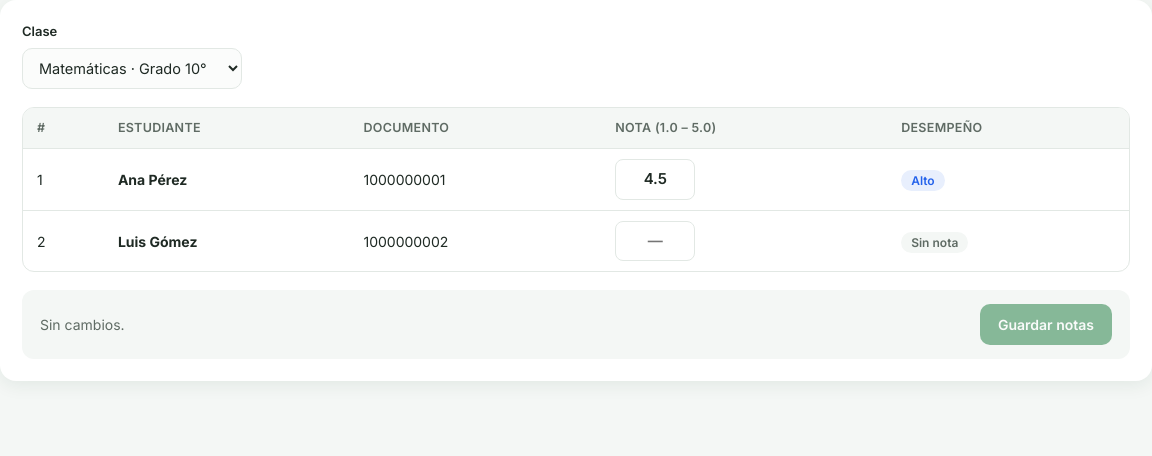
Docente: Registrar notas › envía solo las notas que cambiaron (acepta coma decimal)
This screenshot has width=1152, height=456.
Type "3,8" into the field named "Nota de Luis Gómez" at (655, 241), box x1=615 y1=221 x2=695 y2=261
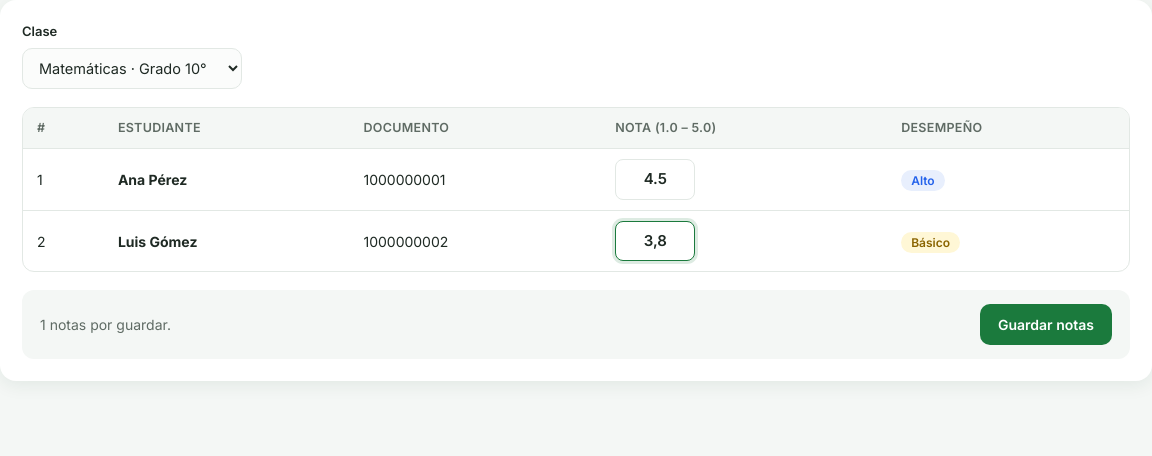
Result: the text "1 notas por guardar." is shown at x1=40 y1=314 x2=171 y2=335
Click the button "Guardar notas" at (1046, 325), box x1=980 y1=304 x2=1112 y2=345
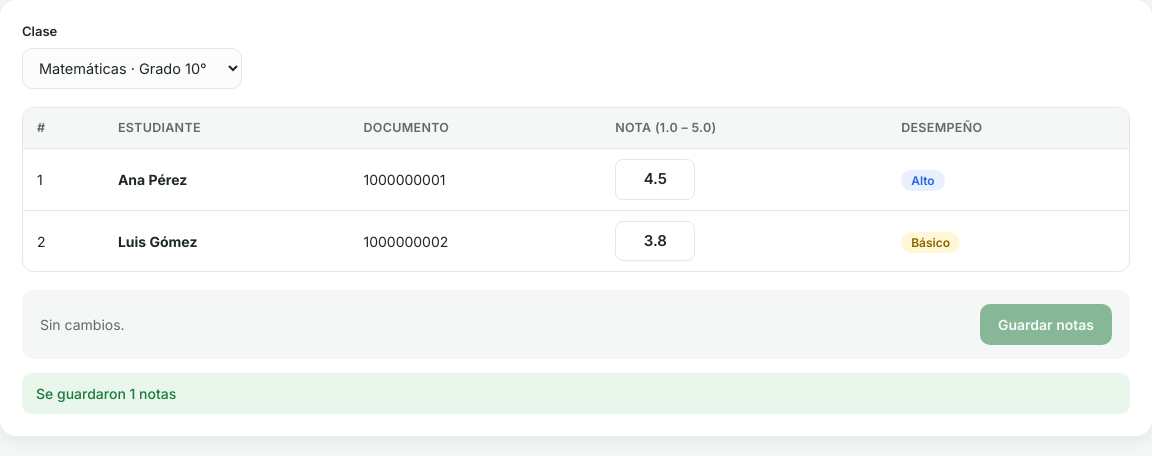
Expected: the field named "Nota de Luis Gómez" holds "3.8", x1=615 y1=221 x2=695 y2=261
Result: the text "Se guardaron 1 notas" is shown at x1=22 y1=373 x2=1130 y2=414
